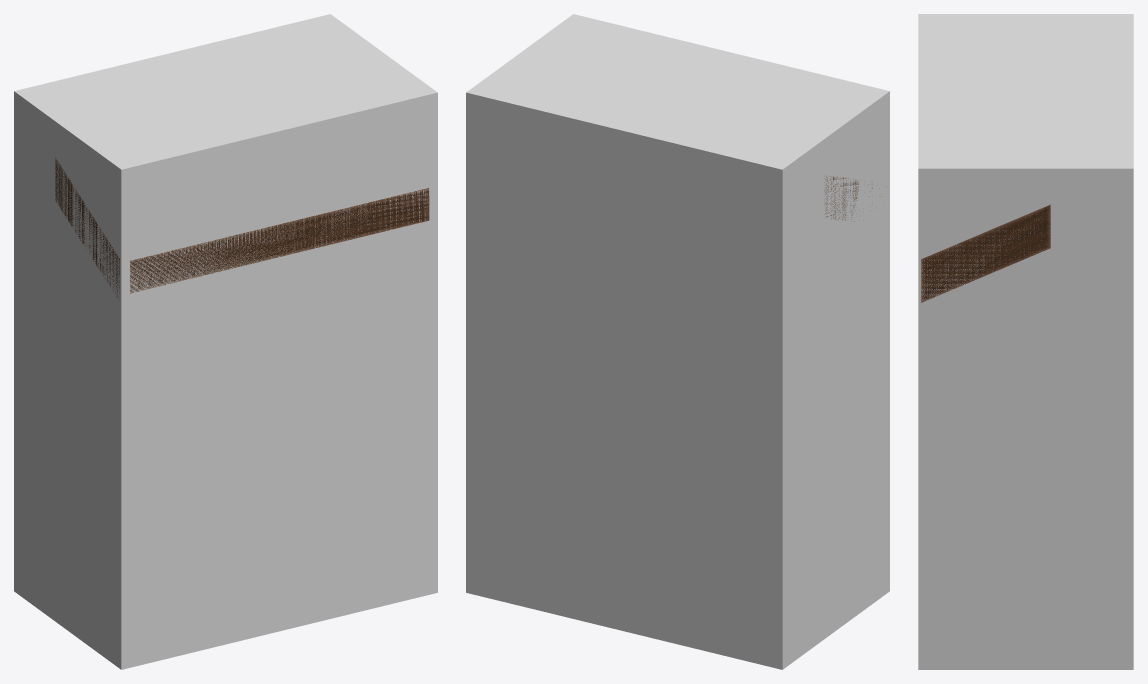
The model's file is house_wall_shopfront.glb.
The picture shows the model from 3 angles, left to right: view 1: azimuth 30°, elevation 25°; view 2: azimuth 150°, elevation 25°; view 3: azimuth 270°, elevation 25°; orthographic projection.
Visible parts, largest first — view 1: COL_house_wall_shopfront_static_00, house_wall_shopfront_static; view 2: COL_house_wall_shopfront_static_00; view 3: COL_house_wall_shopfront_static_00, house_wall_shopfront_static.
Part boxes in pixels (left/top/right/bottom): COL_house_wall_shopfront_static_00: left=14, top=14, right=437, bottom=669; house_wall_shopfront_static: left=55, top=157, right=429, bottom=301; COL_house_wall_shopfront_static_00: left=466, top=14, right=889, bottom=669; COL_house_wall_shopfront_static_00: left=918, top=14, right=1133, bottom=669; house_wall_shopfront_static: left=921, top=204, right=1050, bottom=302.
Size of the model in its own units: 1.84 by 2.78 by 1.08.
3 materials, 3 textured.
